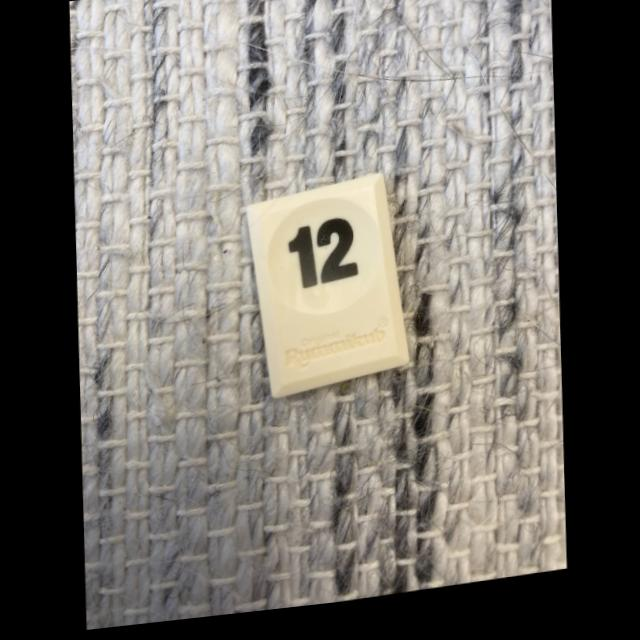black_12: (247, 183, 409, 403)
